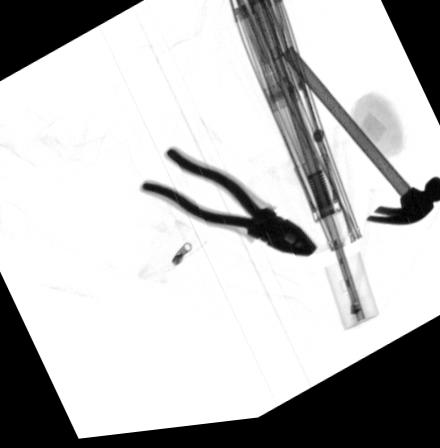Hammer: (280, 52, 440, 236)
Pliers: (136, 151, 318, 265)
